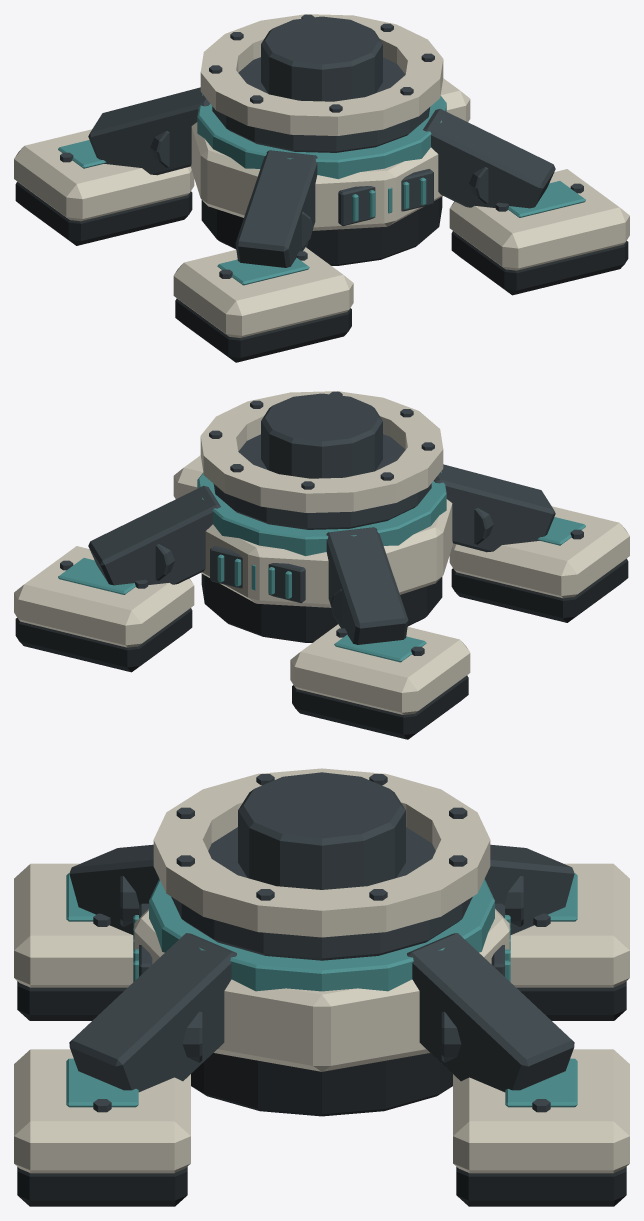
File: SM_CP_TurretBase.fbx
3 renders of one model, top to bottom at view 1: azimuth 30°, elevation 25°; view 2: azimuth 150°, elevation 25°; view 3: azimuth 270°, elevation 25°, orthographic. The views are drawn at different scales.
Visible parts, largest first — view 1: SM_CP_TurretBase; view 2: SM_CP_TurretBase; view 3: SM_CP_TurretBase.
Part boxes in pixels (left/top/right/bottom): SM_CP_TurretBase: left=14, top=14, right=629, bottom=362; SM_CP_TurretBase: left=14, top=391, right=629, bottom=739; SM_CP_TurretBase: left=14, top=768, right=629, bottom=1206.
Size of the model in its own units: 0.98 by 0.94 by 0.458.
